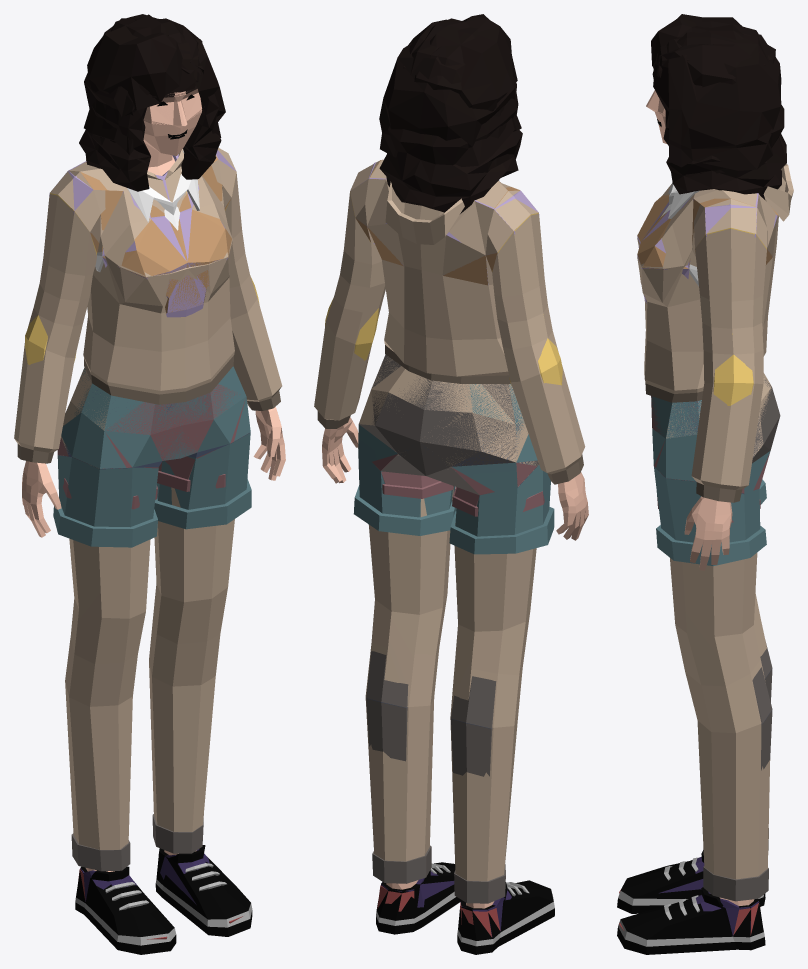
File: AliceRelaxedNotRiggedAllClothes.fbx
3 renders of one model, left to right at view 1: azimuth 30°, elevation 25°; view 2: azimuth 150°, elevation 25°; view 3: azimuth 270°, elevation 25°, orthographic.
Parts seen in each view (by area): view 1: Sweatshirt.001, Sweatpants.003, Shorts 1.003, Shoes 2.003, Sweater.001, Hair 2.003, Hair 4.003, Shorts 2.003, T-shirt.001, Hair 1.003, Shirt.001, Pants 1.003 (+5 smaller); view 2: Sweatpants.003, Sweatshirt.001, Pants 1.003, Shorts 1.003, Hair 4.003, Hair 1.003, Shoes 2.003, Hair 2.003, Sweater.001, Shorts 2.003, T-shirt.001, Shoes 1.003 (+1 smaller); view 3: Sweatshirt.001, Sweatpants.003, Hair 1.003, Shoes 2.003, Shorts 1.003, Hair 4.003, Sweater.001, Pants 1.003, Hair 2.003, Shirt.001, T-shirt.001, Shoes 1.003 (+1 smaller).
Boxes of the visible parts, x1,y1,x2,y2 form: Sweatshirt.001: [14, 143, 282, 536]; Sweatpants.003: [58, 368, 234, 849]; Shorts 1.003: [53, 366, 251, 547]; Shoes 2.003: [75, 845, 252, 954]; Sweater.001: [22, 150, 285, 537]; Hair 2.003: [87, 14, 202, 110]; Hair 4.003: [79, 14, 221, 191]; Shorts 2.003: [57, 384, 245, 509]; T-shirt.001: [22, 150, 280, 537]; Hair 1.003: [84, 18, 225, 164]; Shirt.001: [27, 145, 285, 536]; Pants 1.003: [62, 439, 203, 871]; Sweatpants.003: [359, 356, 537, 881]; Sweatshirt.001: [314, 159, 588, 539]; Pants 1.003: [359, 354, 538, 903]; Shorts 1.003: [353, 384, 554, 554]; Hair 4.003: [379, 18, 522, 213]; Hair 1.003: [379, 43, 521, 166]; Shoes 2.003: [376, 862, 554, 954]; Hair 2.003: [403, 14, 517, 111]; Sweater.001: [322, 160, 587, 534]; Shorts 2.003: [372, 454, 544, 516]; T-shirt.001: [322, 162, 588, 540]; Shoes 1.003: [377, 871, 511, 937]; Sweatshirt.001: [637, 164, 793, 570]; Sweatpants.003: [666, 373, 771, 879]; Hair 1.003: [653, 33, 781, 170]; Shoes 2.003: [617, 850, 765, 954]; Shorts 1.003: [651, 396, 770, 566]; Hair 4.003: [658, 21, 786, 200]; Sweater.001: [637, 195, 777, 566]; Pants 1.003: [703, 377, 780, 901]; Hair 2.003: [651, 14, 775, 87]; Shirt.001: [660, 182, 732, 561]; T-shirt.001: [637, 193, 777, 570]; Shoes 1.003: [659, 857, 758, 935].
Bounding box in the file's own units: 0.5739 × 1.88 × 0.3355.
